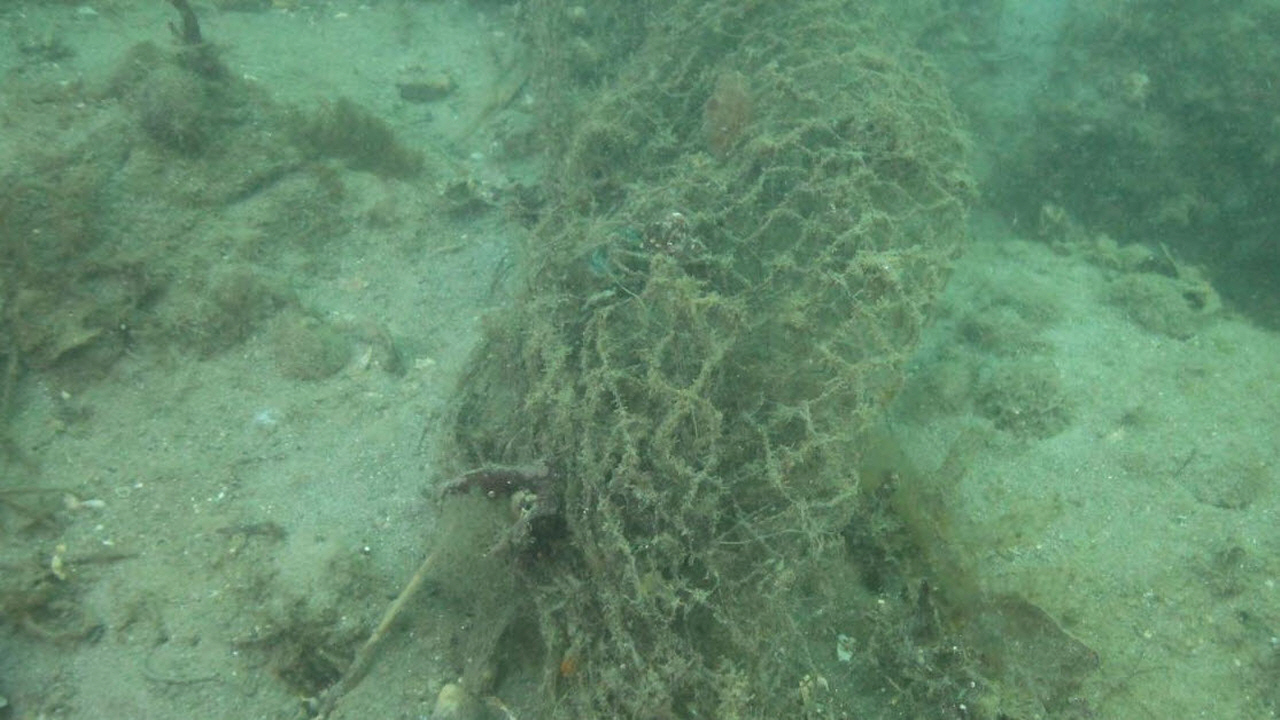fish net: (540, 0, 981, 720)
